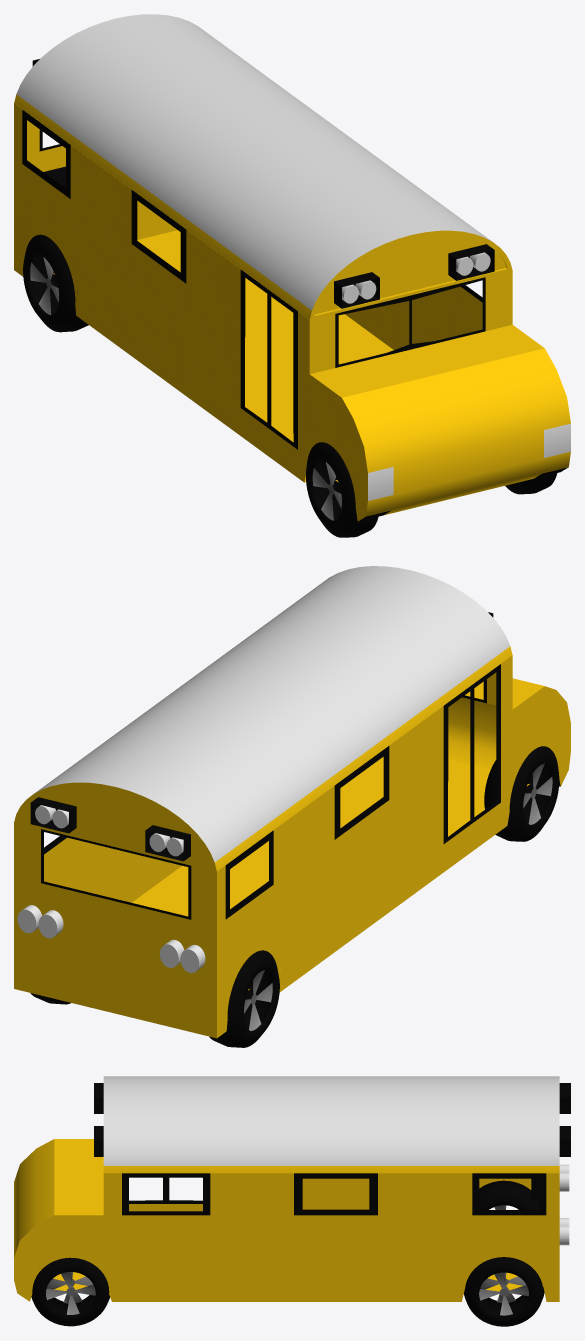
Rendered from bus.fbx.
The picture shows the model from 3 angles, top to bottom: view 1: azimuth 30°, elevation 25°; view 2: azimuth 150°, elevation 25°; view 3: azimuth 270°, elevation 25°; orthographic projection. The views are drawn at different scales.
Parts seen in each view (by area): view 1: Cube, Cylinder, Cylinder.001, Cylinder.003, Cube.002, Cube.001; view 2: Cube, Cylinder, Cylinder.003, Cylinder.001, Cube.004, Cube.003; view 3: Cube, Cylinder, Cylinder.002, Cylinder.004, Cylinder.001, Cube.003, Cube.004.
Boxes of the visible parts, x1=… form: Cube: x1=14, y1=103, x2=570, y2=521; Cylinder: x1=14, y1=14, x2=512, y2=319; Cylinder.001: x1=23, y1=234, x2=88, y2=332; Cylinder.003: x1=306, y1=442, x2=378, y2=537; Cube.002: x1=448, y1=244, x2=494, y2=280; Cube.001: x1=334, y1=272, x2=379, y2=308; Cube: x1=14, y1=655, x2=570, y2=1038; Cylinder: x1=14, y1=566, x2=512, y2=871; Cylinder.003: x1=484, y1=746, x2=559, y2=841; Cylinder.001: x1=209, y1=950, x2=279, y2=1047; Cube.004: x1=30, y1=797, x2=76, y2=833; Cube.003: x1=145, y1=825, x2=190, y2=861; Cube: x1=14, y1=1139, x2=559, y2=1301; Cylinder: x1=103, y1=1076, x2=559, y2=1173; Cylinder.002: x1=464, y1=1257, x2=544, y2=1326; Cylinder.004: x1=31, y1=1257, x2=109, y2=1326; Cylinder.001: x1=479, y1=1180, x2=539, y2=1209; Cube.003: x1=559, y1=1083, x2=570, y2=1113; Cube.004: x1=559, y1=1126, x2=570, y2=1156.
Size of the model in its own units: 406 by 465 by 1168.
